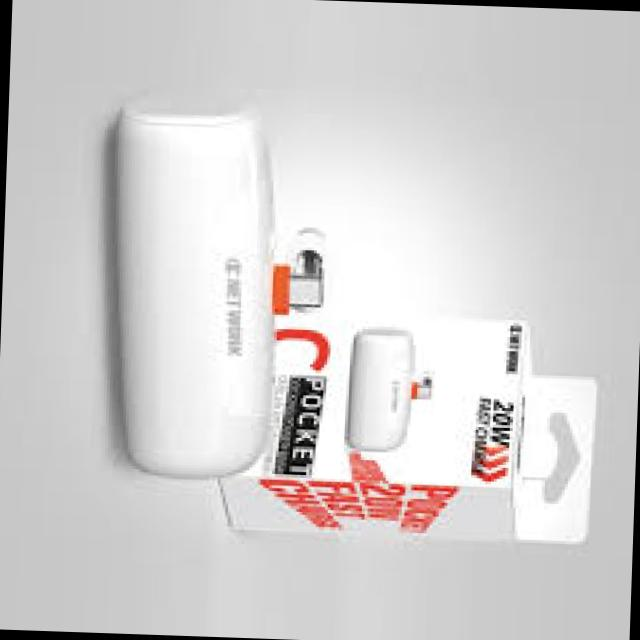power_bank: (103, 108, 334, 487)
